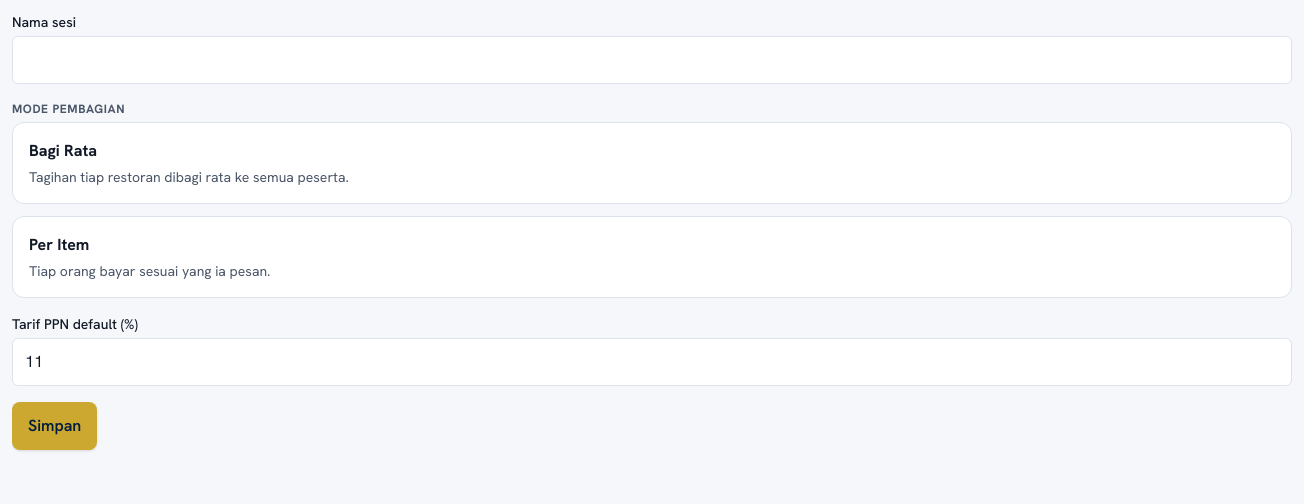
SessionForm (create) › blocks submit when name is empty
This screenshot has width=1304, height=504.
Click the button "Simpan" at (55, 426), box 12,402 -> 97,450
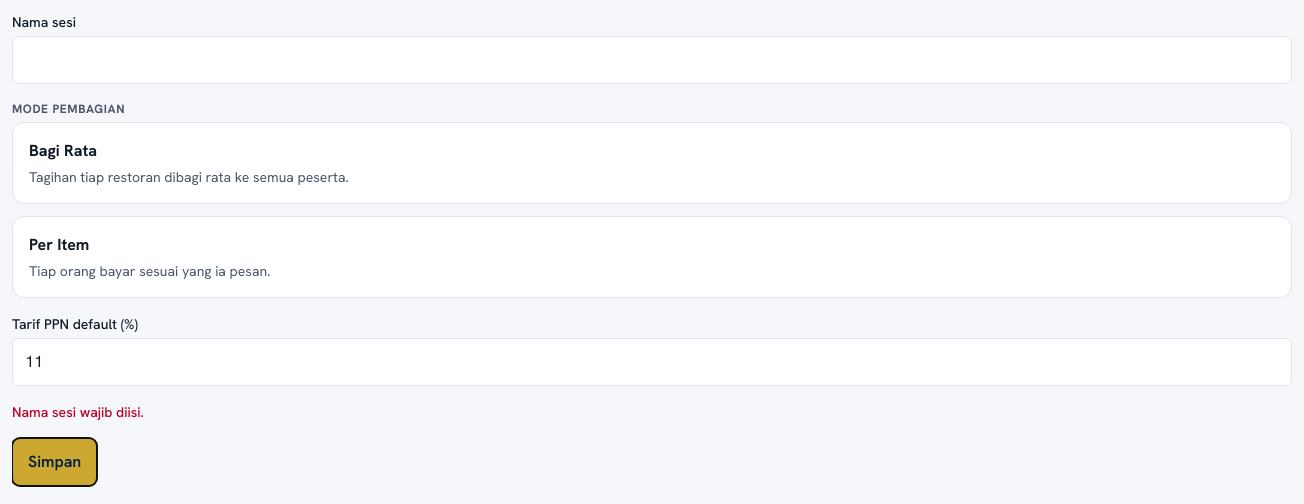
Expected: the text "Nama sesi wajib diisi." is shown, 12,403 -> 144,421
